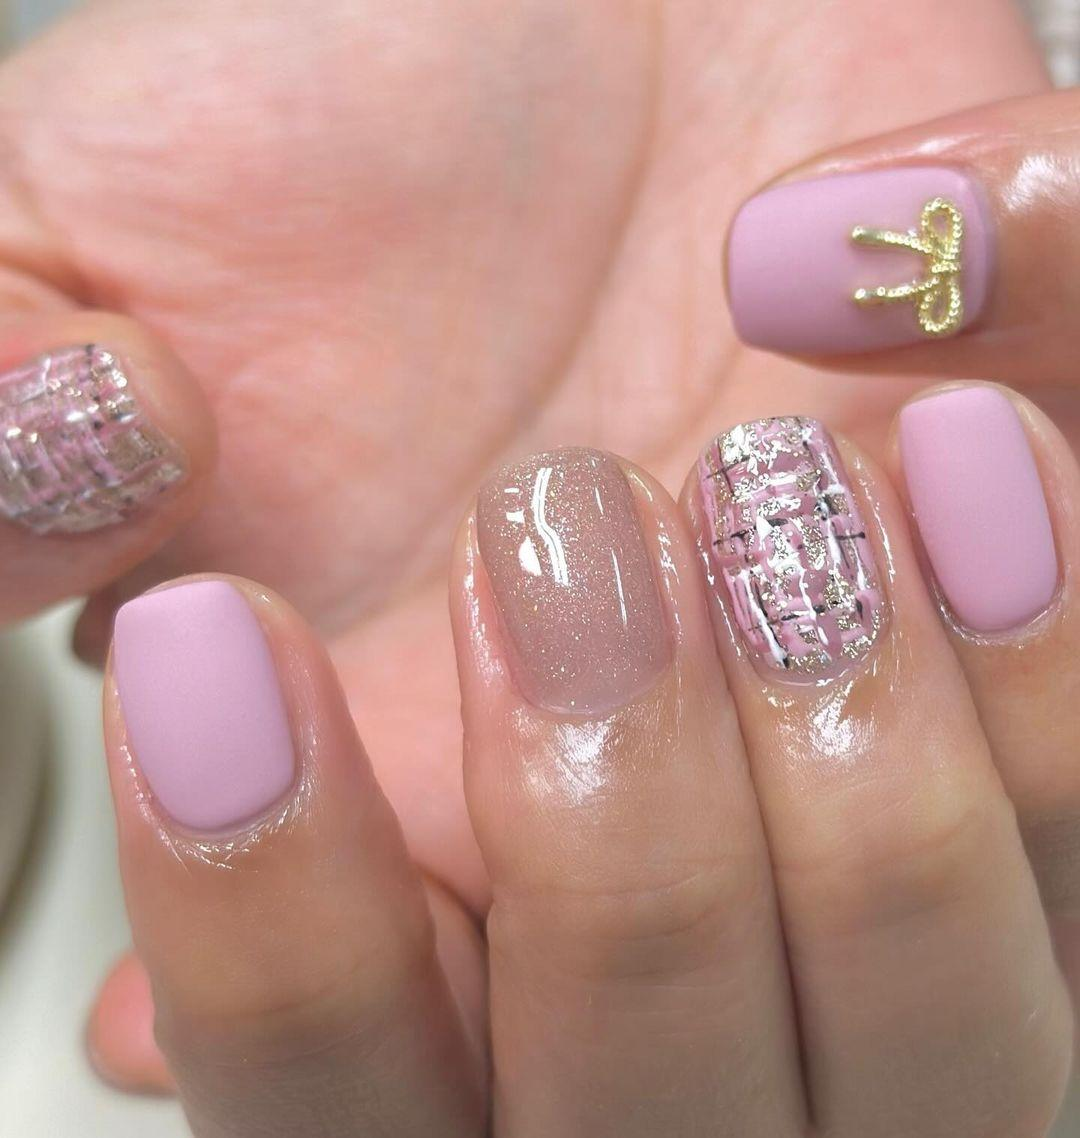nail: (679, 413, 892, 689), (472, 444, 677, 720), (722, 160, 996, 356), (106, 572, 299, 840), (890, 377, 1064, 642), (0, 340, 188, 536)
